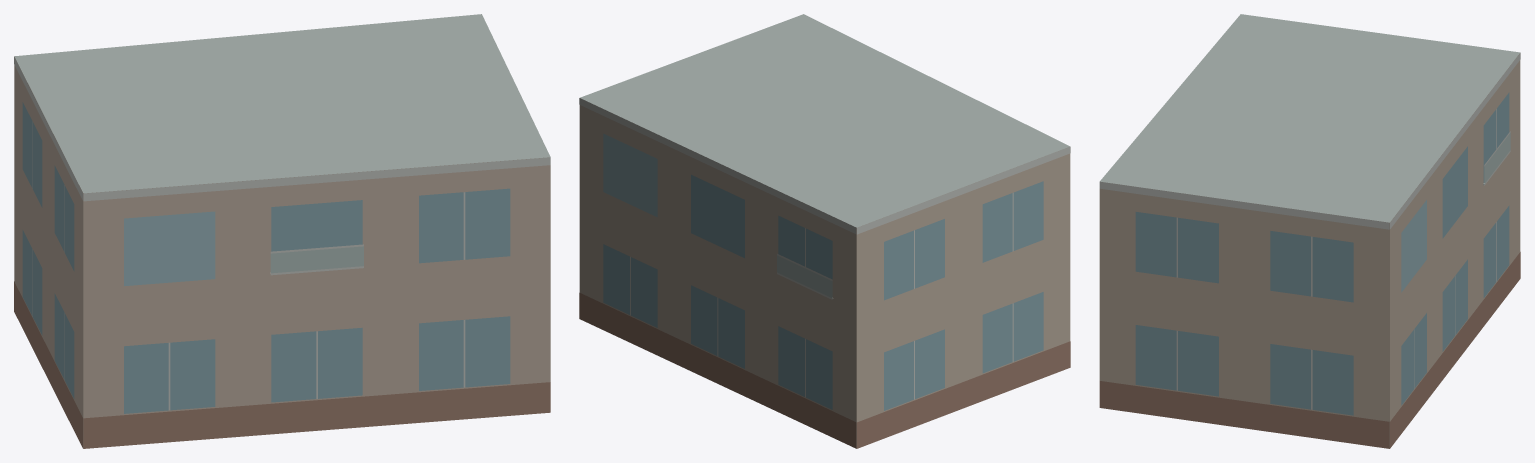
Rendered from survey-upis-32908257.glb.
The picture shows the model from 3 angles, left to right: view 1: azimuth 30°, elevation 25°; view 2: azimuth 150°, elevation 25°; view 3: azimuth 270°, elevation 25°; orthographic projection. The views are drawn at different scales.
Parts seen in each view (by area): view 1: survey-upis-32908257.tmp; view 2: survey-upis-32908257.tmp; view 3: survey-upis-32908257.tmp.
Part boxes in pixels (bbox=[...]): survey-upis-32908257.tmp: bbox=[14, 14, 550, 448]; survey-upis-32908257.tmp: bbox=[579, 14, 1070, 448]; survey-upis-32908257.tmp: bbox=[1099, 14, 1520, 448].
Bounding box in the file's own units: 15.44 × 7.8 × 13.16.
